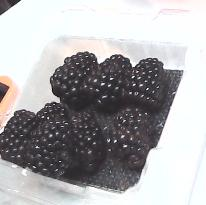berry: (107, 107, 157, 165), (26, 115, 71, 177), (49, 51, 97, 109), (82, 53, 130, 111), (120, 57, 168, 108), (70, 110, 107, 171), (0, 109, 37, 166), (36, 102, 67, 120)
